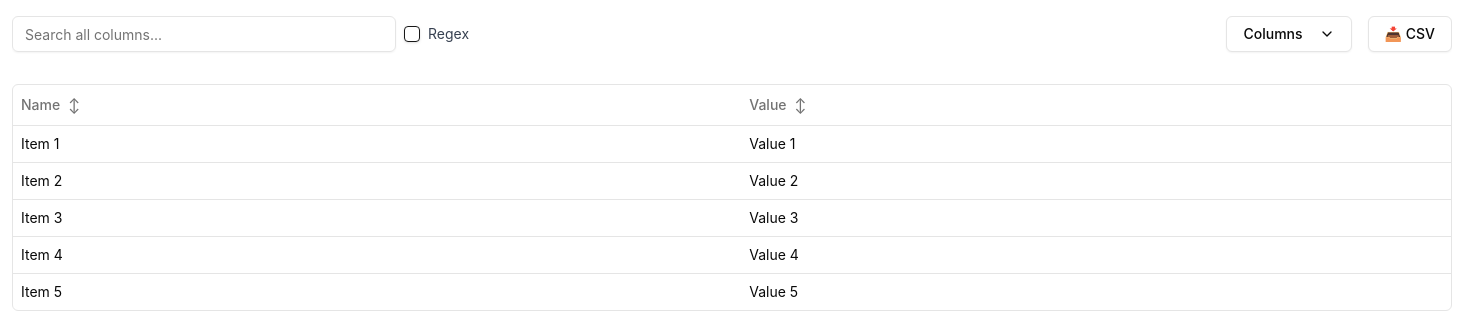
Test: DataTable Header Alignment › should maintain header alignment during filtering
Note: Filter the data - use userEvent or ensure the change event properly updates state
Step 1. Type "Item 1" into the field with placeholder "Search all columns..." → [204, 34], box [12,16,396,52]
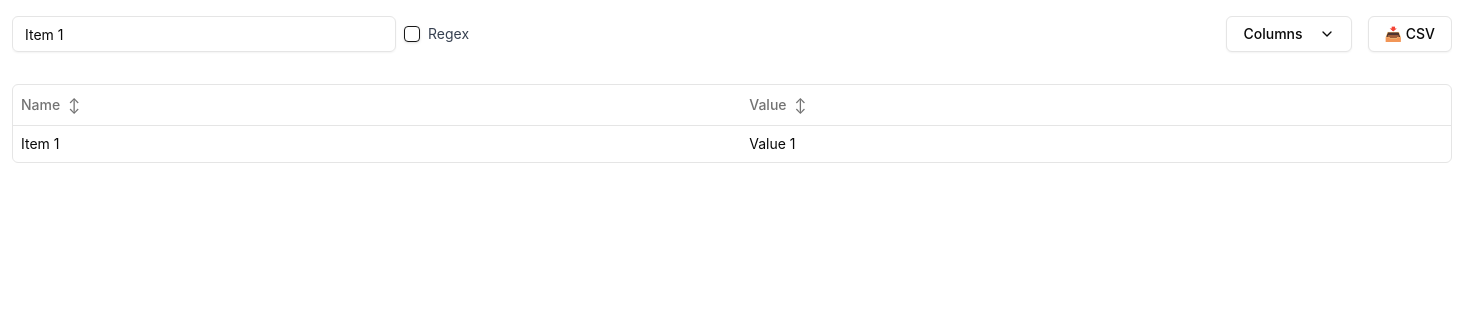
expect the text "Item 1" is shown: met, box [13,125,741,162]
expect the text "Item 2" is gone: met
